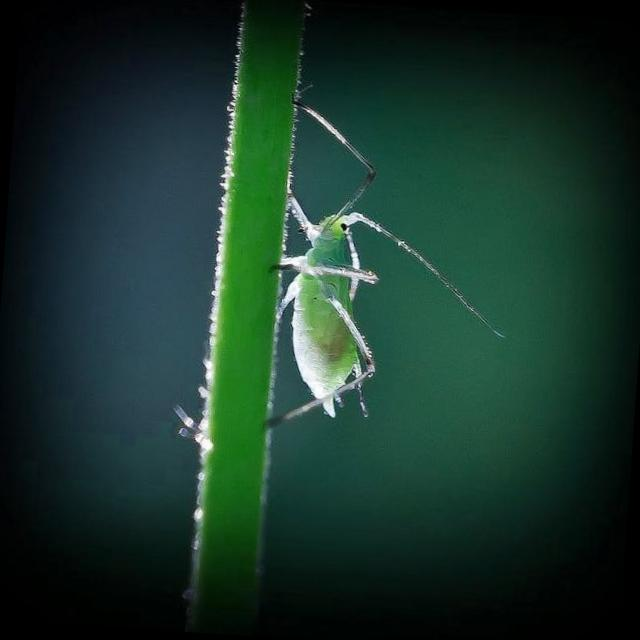aphid: (223, 116, 477, 480)
